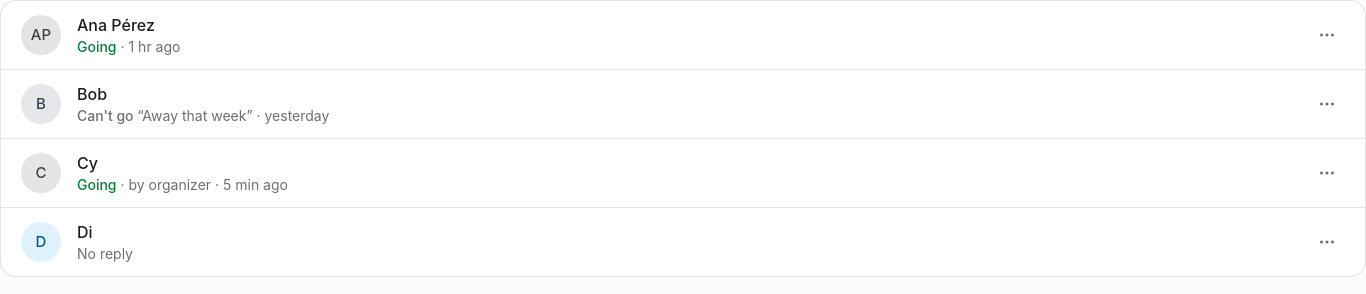
Test case: AttendanceList › row menu › disables marking the answer a member already has
Click the button named "Actions for Ana Pérez": {"x": 1327, "y": 35} [1309,17,1345,53]
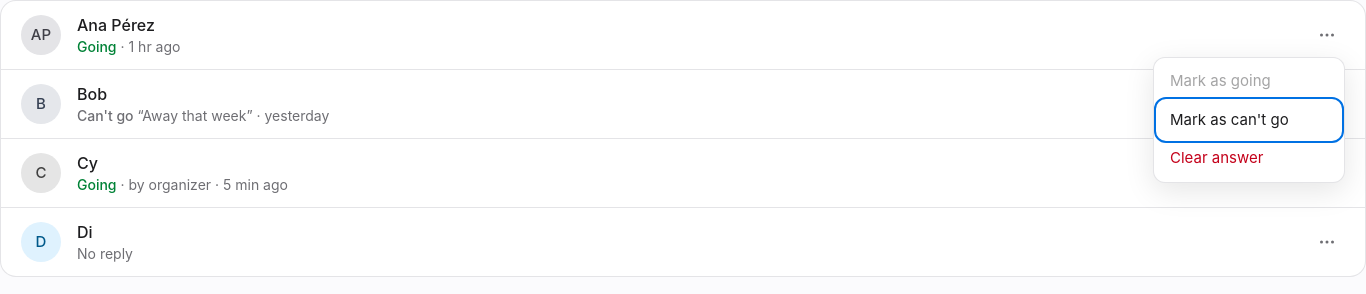
Check: the menu item "Mark as going" is disabled, box [1158,62,1340,100]
Check: the menu item "Mark as can't go" is enabled, box [1158,100,1340,139]
